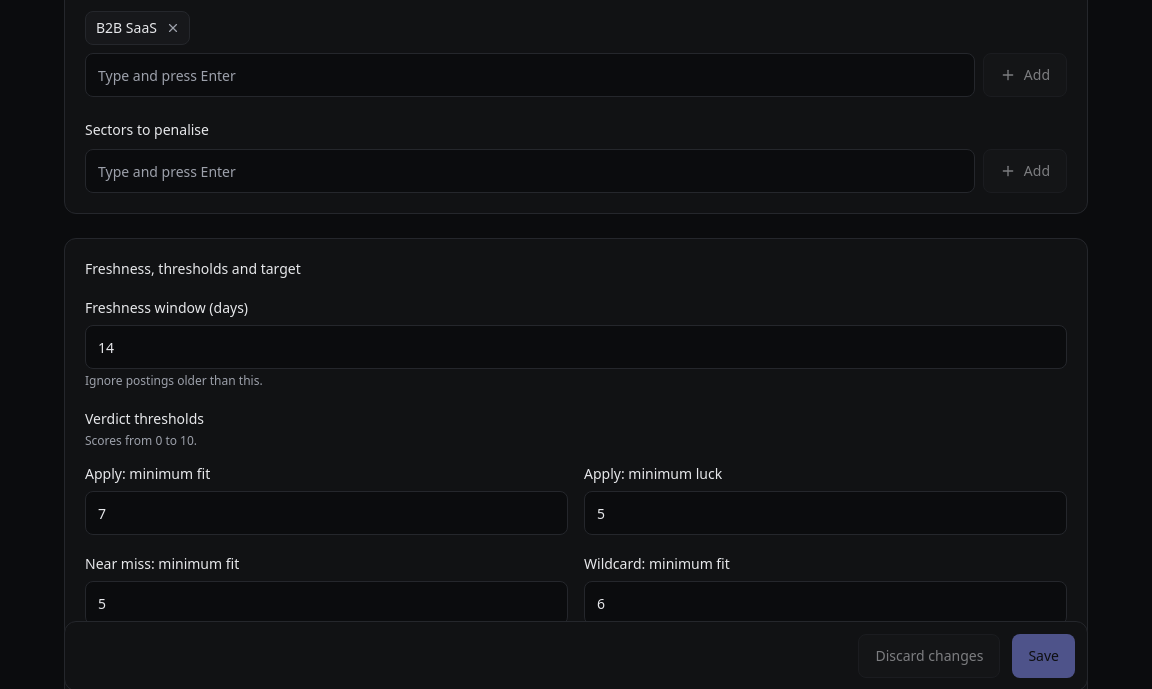
Test: Criteria form › blocks save and shows a field error for invalid input
(page scrolled)
Replace the text in the number field labelled "Freshness window (days)" with "0" at (576, 347), box [85,325,1067,369]
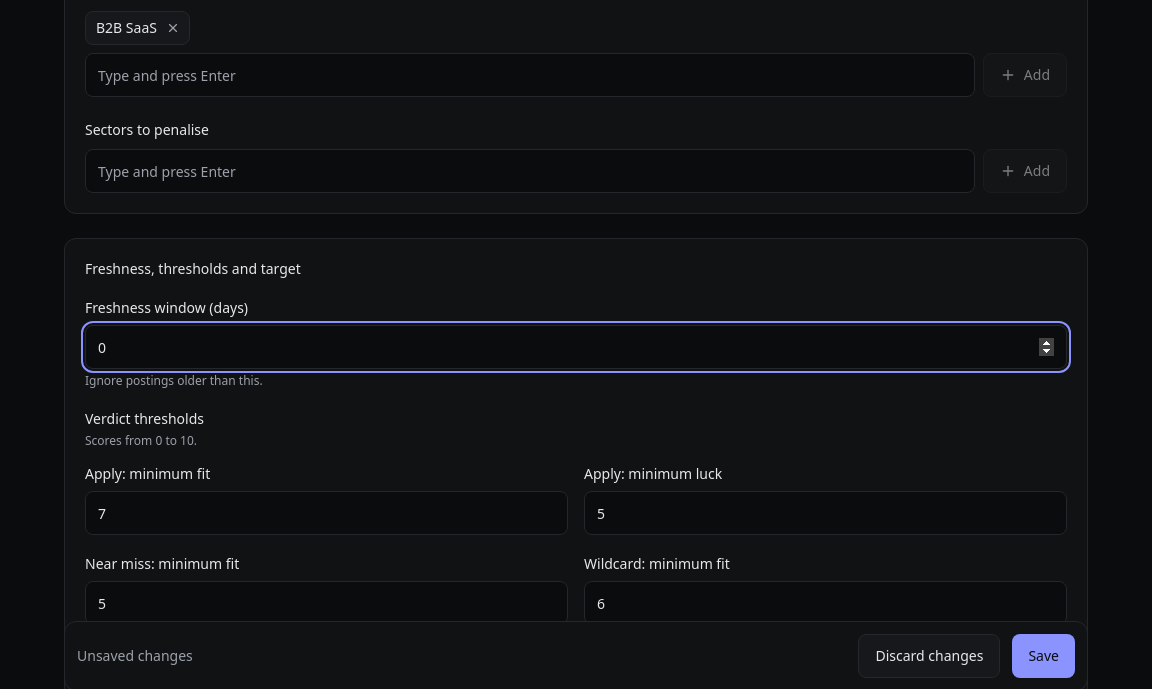
Click the button "Save" at (1044, 656), box [1012,634,1075,678]
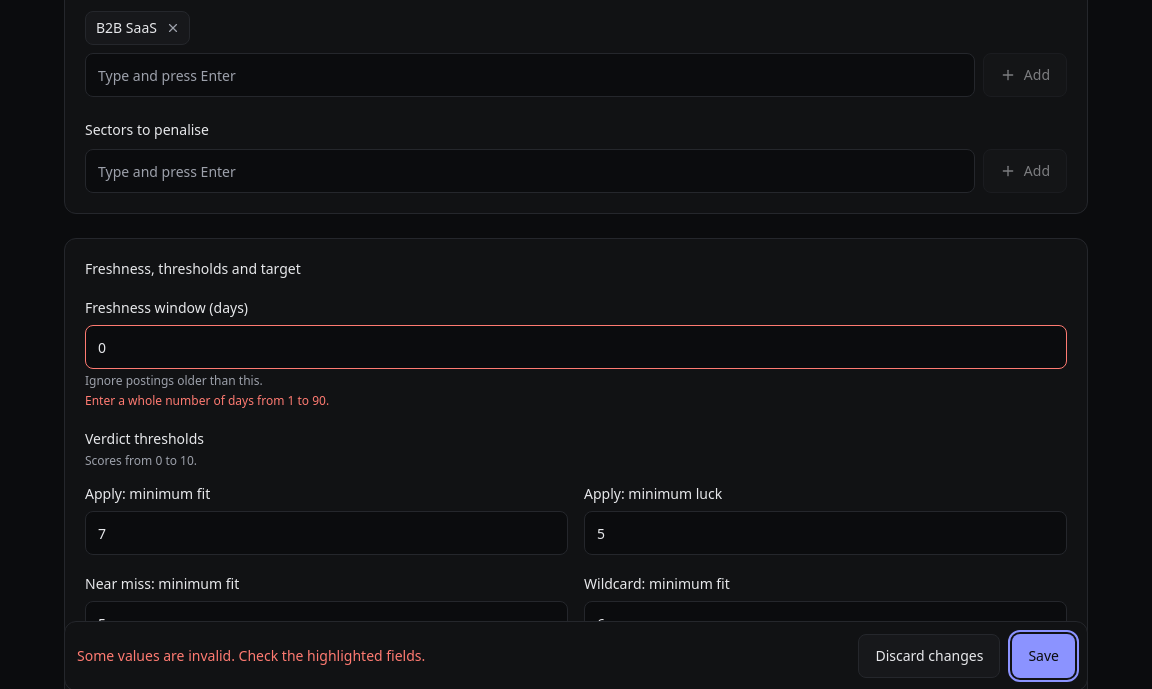
Result: the text "Enter a whole number of days from 1 to 90." is shown at [85,392,329,409]
